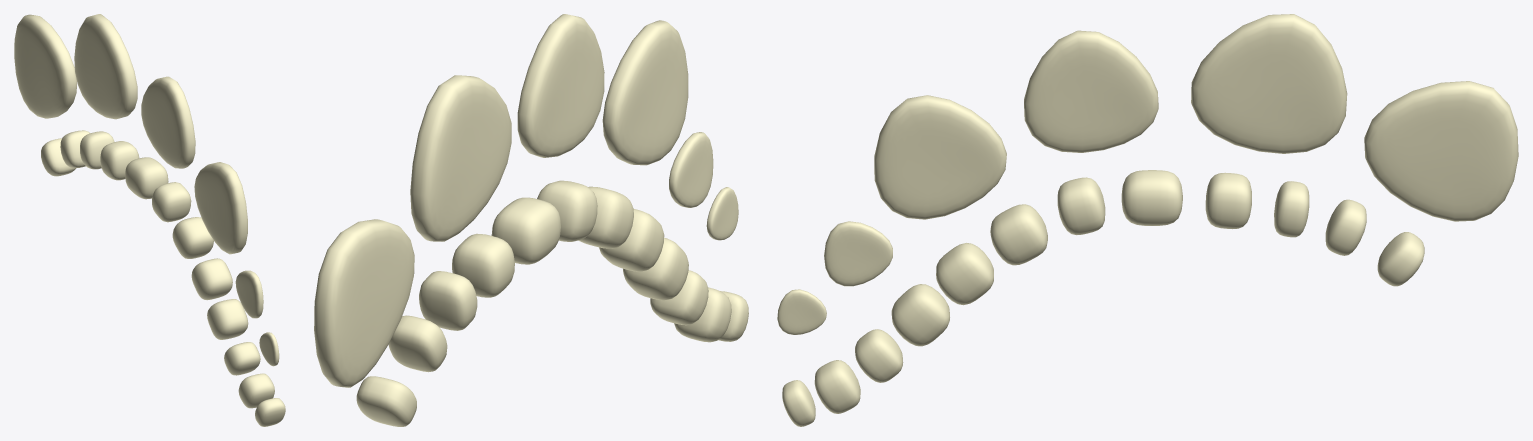
Rendered from spine.glb.
The picture shows the model from 3 angles, left to right: view 1: azimuth 30°, elevation 25°; view 2: azimuth 150°, elevation 25°; view 3: azimuth 270°, elevation 25°; orthographic projection. The views are drawn at different scales.
Visible parts, largest first — view 1: Cube, Cube.002, Cube.035, Cube.036, Cube.006, Cube.009, Cube.005, Cube.007, Cube.008, Cube.010, Cube.037, Cube.004 (+6 smaller); view 2: Cube.002, Cube, Cube.036, Cube.035, Cube.009, Cube.010, Cube.011, Cube.037, Cube.012, Cube.008, Cube.013, Cube.005 (+6 smaller); view 3: Cube.002, Cube, Cube.036, Cube.035, Cube.037, Cube.009, Cube.005, Cube.006, Cube.007, Cube.010, Cube.008, Cube.004 (+6 smaller).
Boxes of the visible parts, bbox=[...] form: Cube: bbox=[74, 14, 137, 119]; Cube.002: bbox=[14, 14, 76, 118]; Cube.035: bbox=[141, 76, 195, 168]; Cube.036: bbox=[194, 162, 247, 254]; Cube.006: bbox=[191, 258, 232, 300]; Cube.009: bbox=[125, 157, 168, 199]; Cube.005: bbox=[207, 299, 248, 339]; Cube.007: bbox=[172, 217, 213, 258]; Cube.008: bbox=[152, 182, 191, 222]; Cube.010: bbox=[100, 141, 139, 180]; Cube.037: bbox=[235, 270, 263, 318]; Cube.004: bbox=[224, 342, 260, 375]; Cube.002: bbox=[314, 219, 414, 387]; Cube: bbox=[410, 75, 511, 241]; Cube.036: bbox=[602, 20, 688, 165]; Cube.035: bbox=[517, 14, 604, 157]; Cube.009: bbox=[491, 197, 560, 264]; Cube.010: bbox=[452, 233, 514, 297]; Cube.011: bbox=[419, 271, 477, 330]; Cube.037: bbox=[669, 132, 713, 207]; Cube.012: bbox=[388, 315, 447, 372]; Cube.008: bbox=[537, 180, 597, 241]; Cube.013: bbox=[356, 376, 416, 426]; Cube.005: bbox=[623, 237, 688, 300]; Cube.002: bbox=[1364, 81, 1518, 221]; Cube: bbox=[1191, 14, 1347, 153]; Cube.036: bbox=[874, 95, 1006, 219]; Cube.035: bbox=[1024, 30, 1158, 152]; Cube.037: bbox=[824, 221, 892, 286]; Cube.009: bbox=[1121, 170, 1182, 225]; Cube.005: bbox=[891, 284, 949, 346]; Cube.006: bbox=[936, 243, 993, 305]; Cube.007: bbox=[990, 204, 1047, 265]; Cube.010: bbox=[1205, 172, 1251, 229]; Cube.008: bbox=[1057, 177, 1105, 235]; Cube.004: bbox=[855, 329, 903, 382].
Size of the model in its own units: 0.1221 by 1.1 by 1.81.
Materials: 1 (1 with a texture image).
